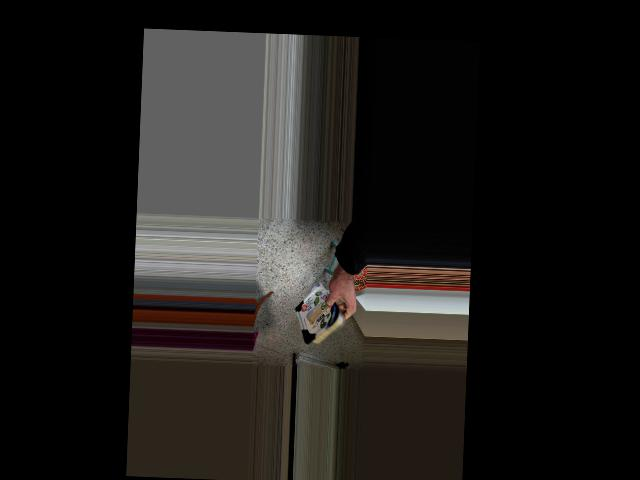cheese: (286, 288, 362, 346)
